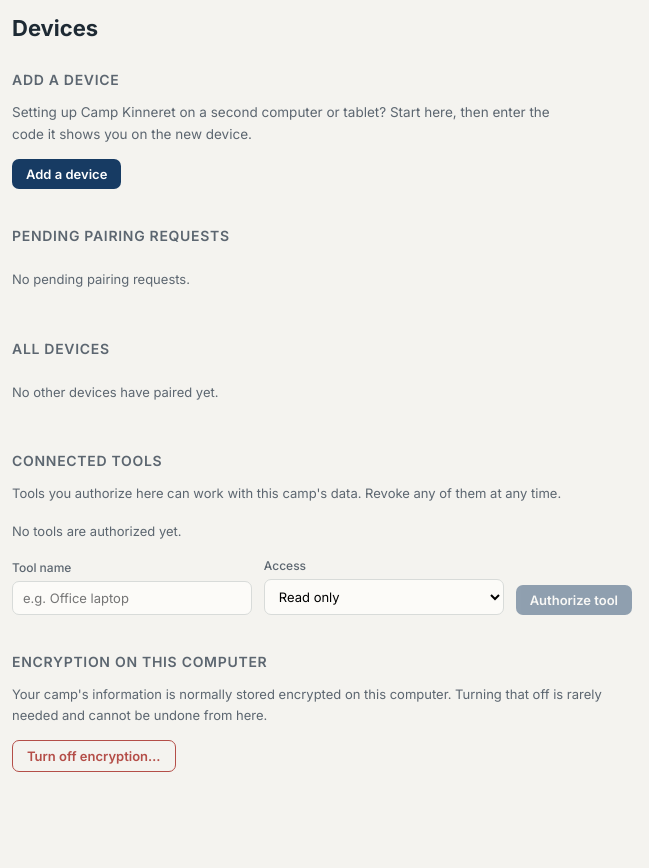
it: DeviceManagerScreen — adding a device › closes the window again, and stops showing the code
Click the button "Add a device": {"x": 67, "y": 174} left=12, top=159, right=121, bottom=189
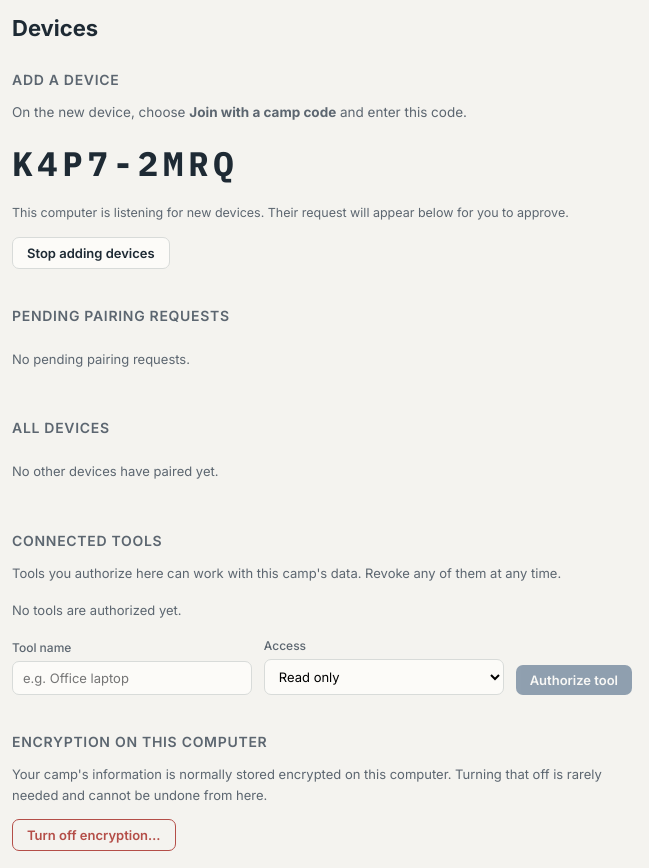
Click the button "Stop adding devices": {"x": 91, "y": 253} left=12, top=237, right=170, bottom=269
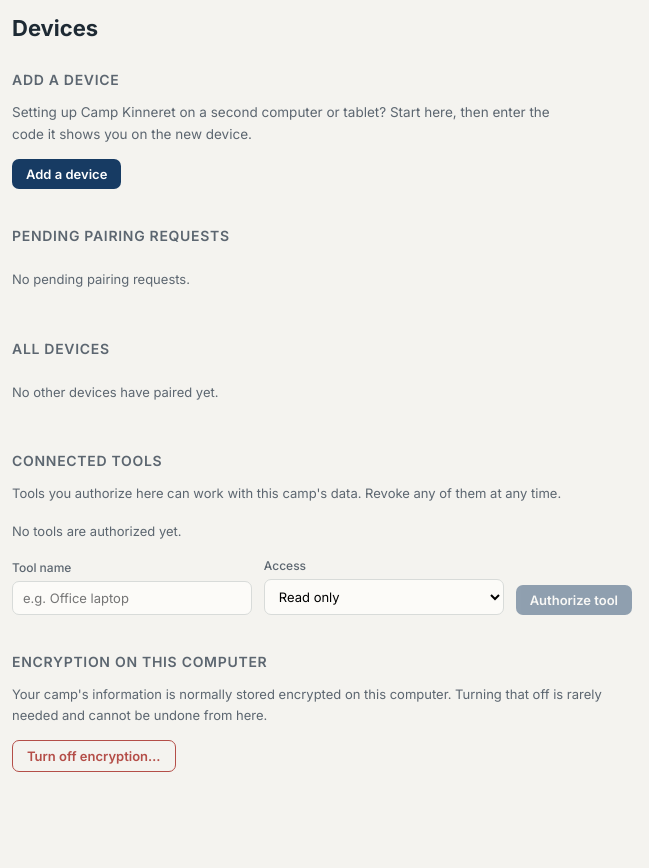
Result: the text "K4P7-2MRQ" is gone
